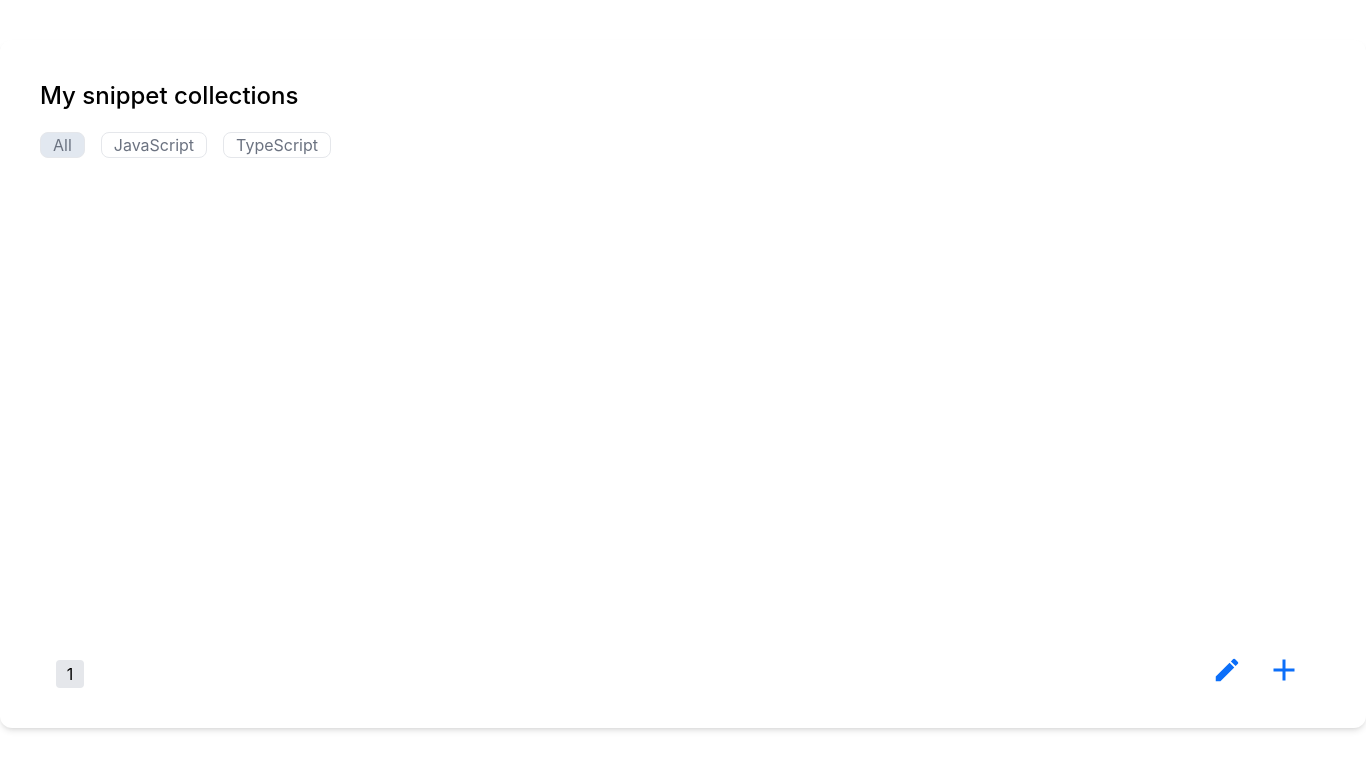
Test: Given a GenericCard component › When it's rendered and someone clicks the JavaScript button › Then it should change its state
This screenshot has width=1366, height=768.
Click the button "JavaScript". click: (154, 145)
box: [114,133,194,157]
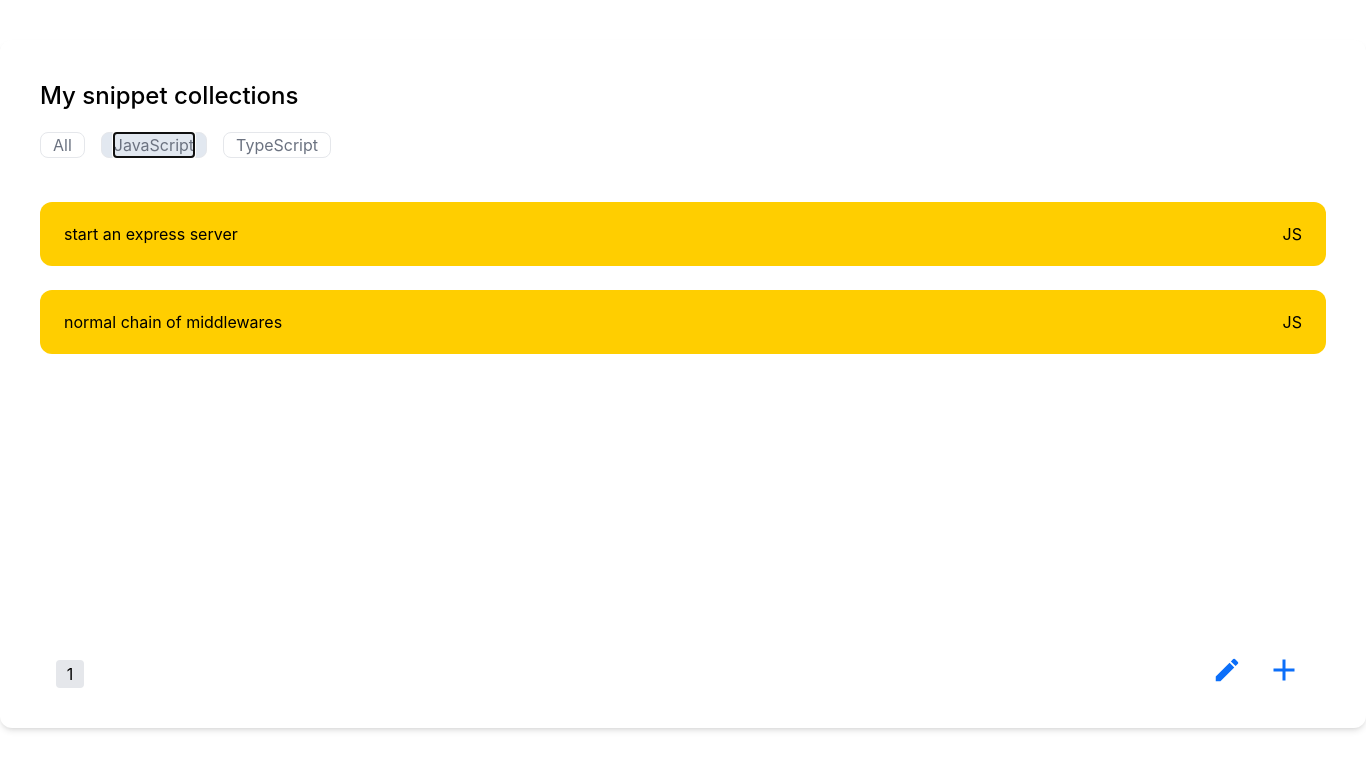
Now the link "start an express server JS" is shown, box [40,202,1326,266]
